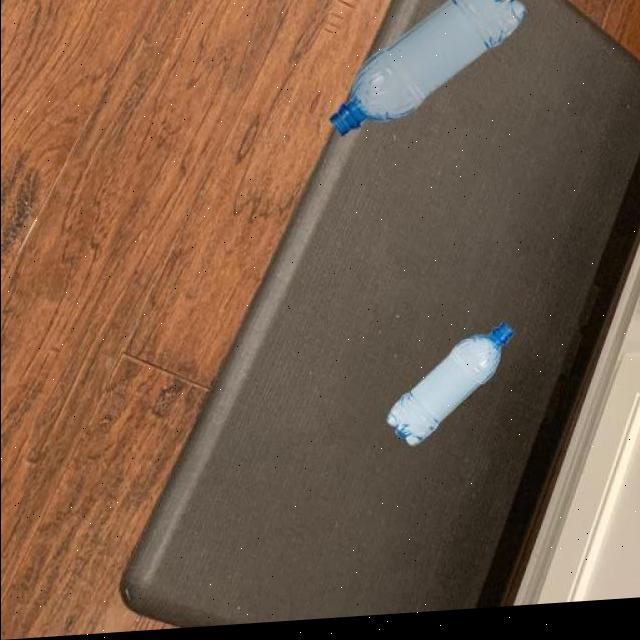bottle: (329, 0, 529, 142), (385, 326, 515, 453)
